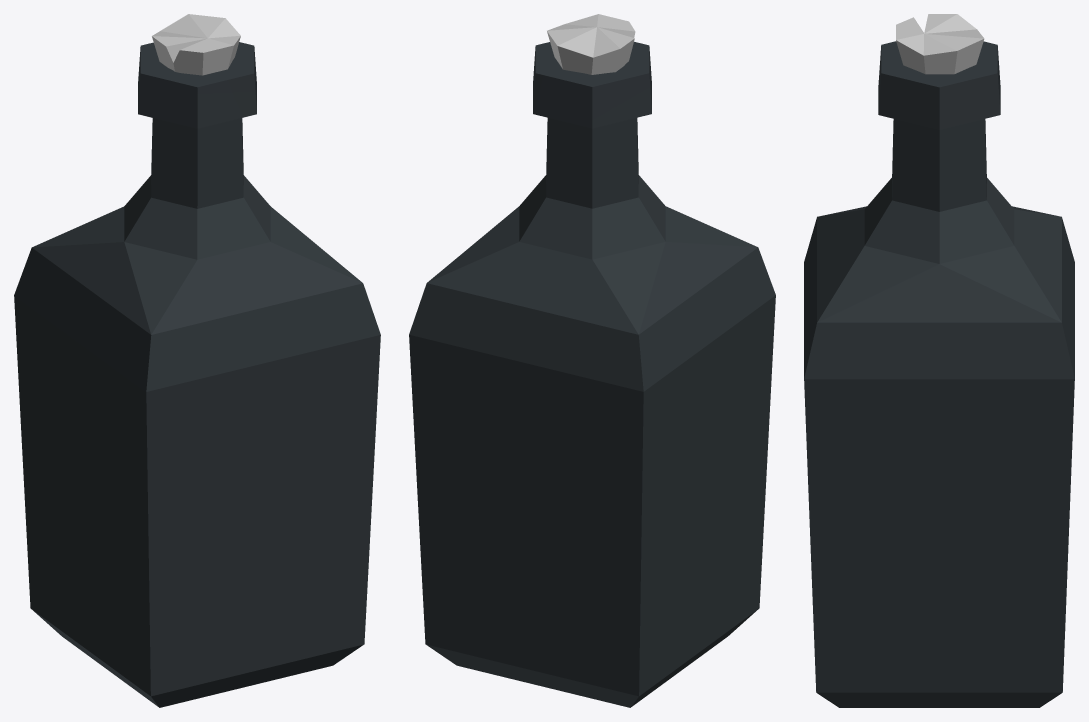
File: AleBottle.fbx
The picture shows the model from 3 angles, left to right: view 1: azimuth 30°, elevation 25°; view 2: azimuth 150°, elevation 25°; view 3: azimuth 270°, elevation 25°; orthographic projection. The views are drawn at different scales.
Parts seen in each view (by area): view 1: SM_Item_Bottle_06; view 2: SM_Item_Bottle_06; view 3: SM_Item_Bottle_06.
Boxes of the visible parts, x1=… form: SM_Item_Bottle_06: x1=14, y1=14, x2=380, y2=707; SM_Item_Bottle_06: x1=409, y1=14, x2=775, y2=707; SM_Item_Bottle_06: x1=804, y1=14, x2=1074, y2=707.
Bounding box in the file's own units: 15.41 × 38.77 × 15.04.
